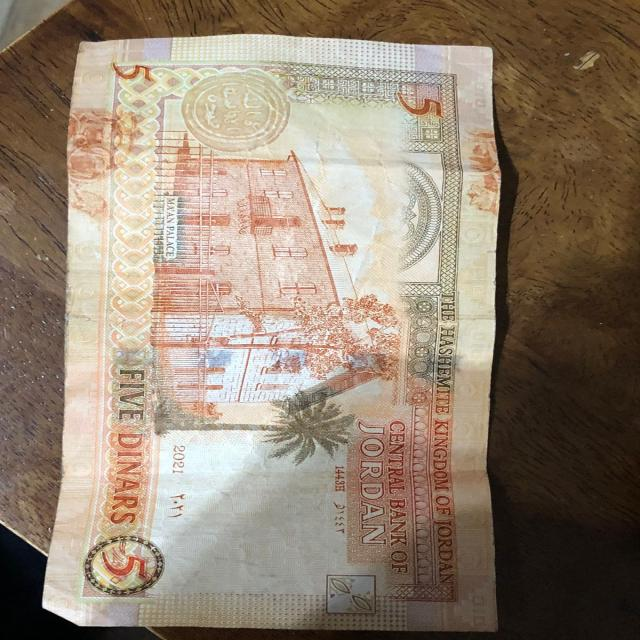5-dinar: (43, 34, 507, 634)
